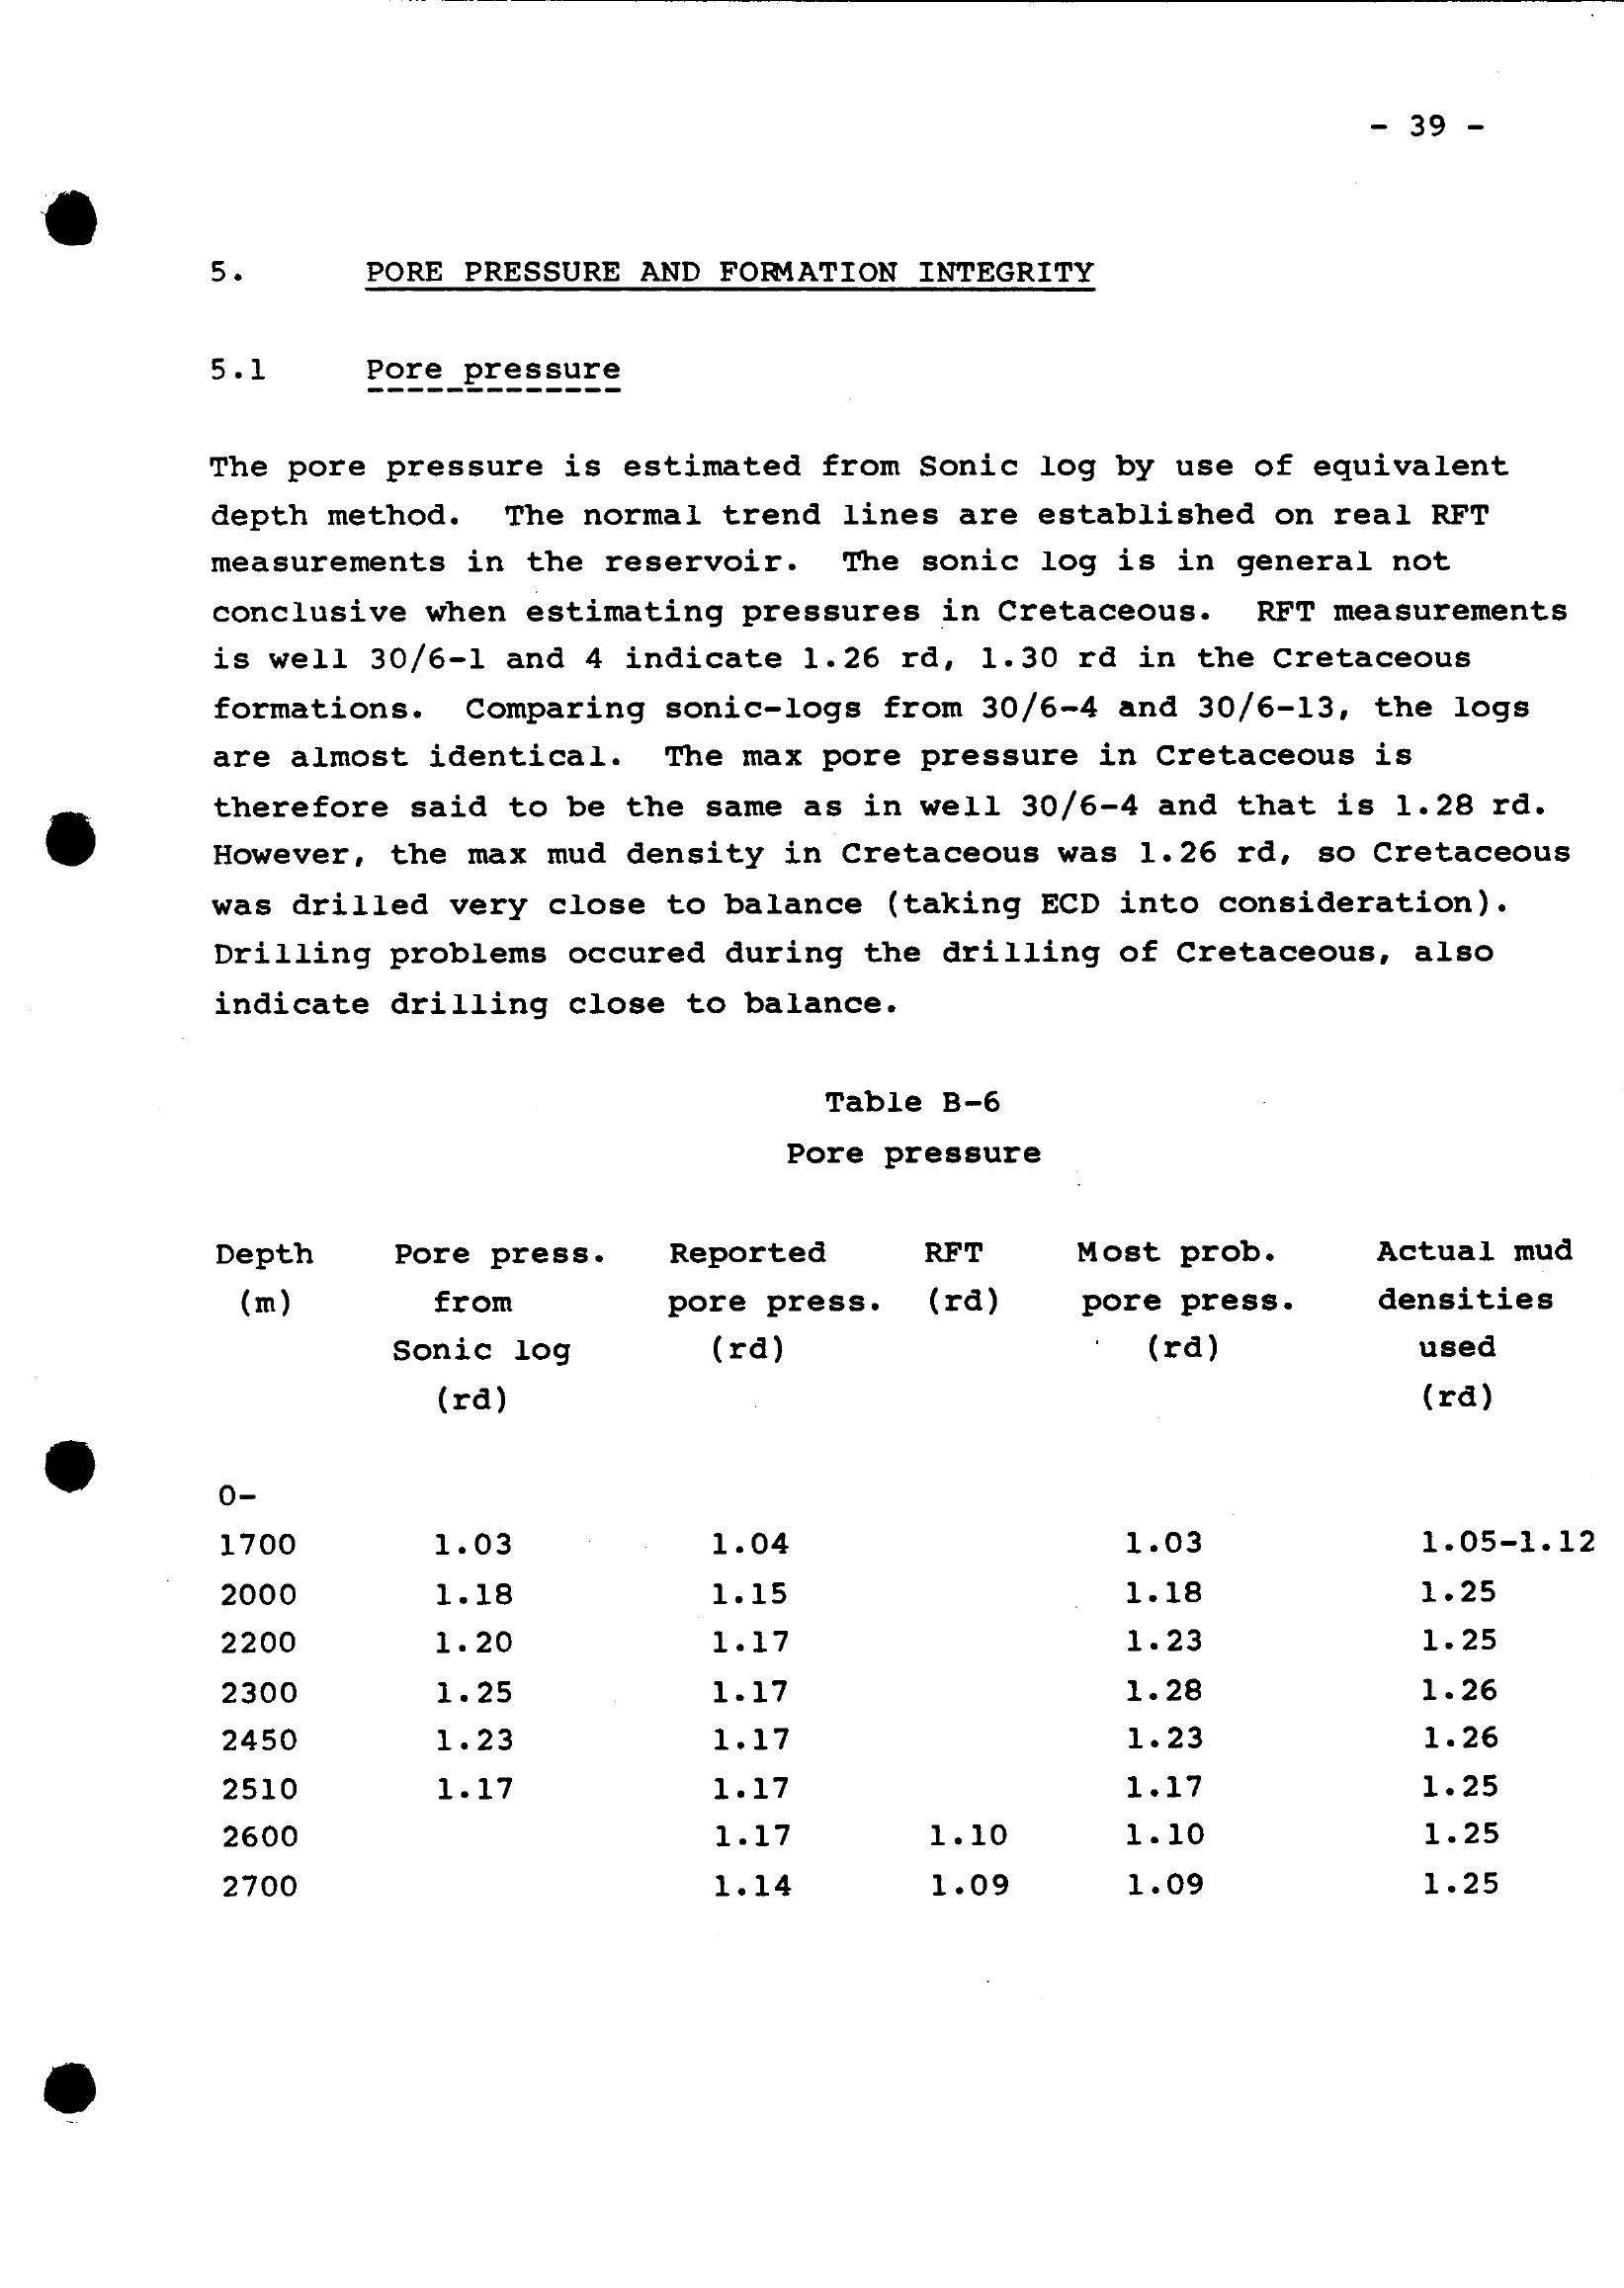table: (179, 1132, 1624, 1951)
text: (186, 232, 1598, 1040), (810, 1070, 1042, 1123)
